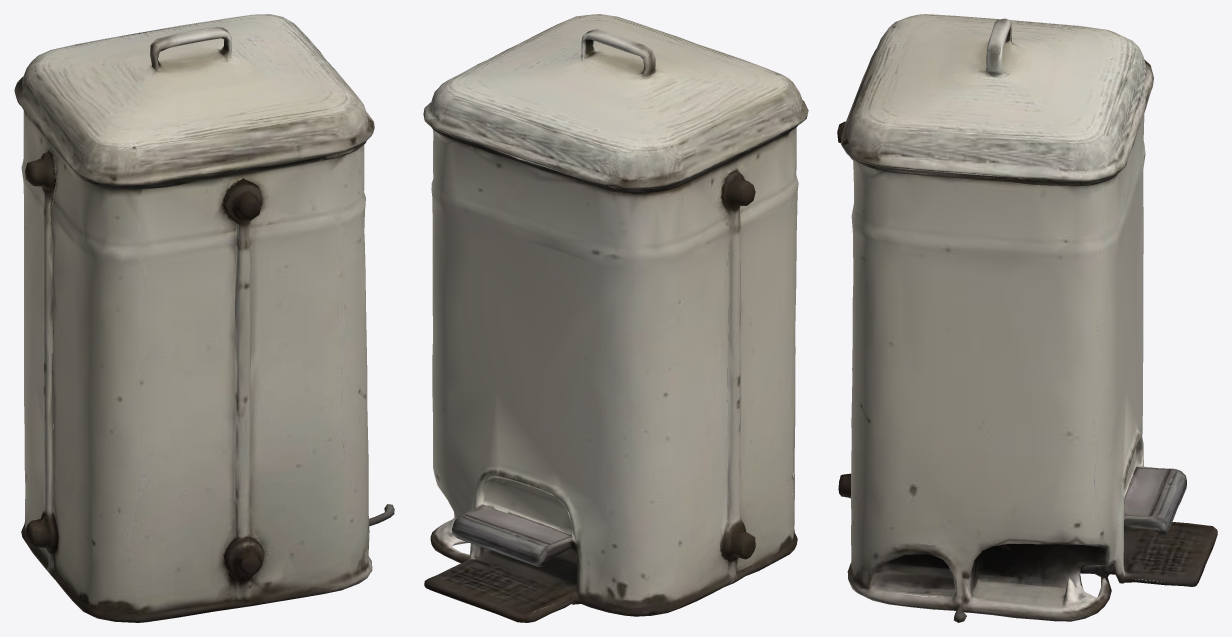
File: cubo_pedal.glb
The picture shows the model from 3 angles, left to right: view 1: azimuth 30°, elevation 25°; view 2: azimuth 150°, elevation 25°; view 3: azimuth 270°, elevation 25°; orthographic projection. The views are drawn at different scales.
Parts seen in each view (by area): view 1: geometry_0; view 2: geometry_0; view 3: geometry_0.
Part boxes in pixels (x1,y1,x2,y2): geometry_0: [14, 14, 394, 622]; geometry_0: [423, 14, 808, 622]; geometry_0: [837, 14, 1217, 622].
Size of the model in its own units: 0.3 by 0.45 by 0.3.
Materials: 1 (1 with a texture image).
